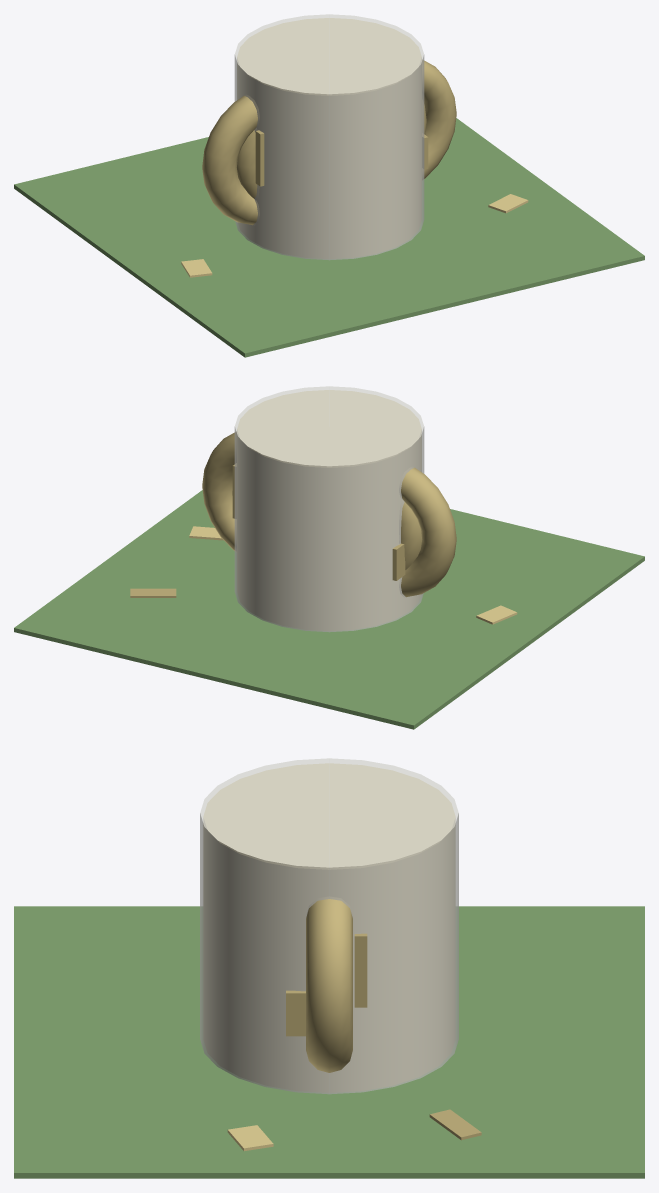
Rendered from hay_bale.glb.
3 views of the same model, one above another, from view 1: azimuth 30°, elevation 25°; view 2: azimuth 150°, elevation 25°; view 3: azimuth 270°, elevation 25° (orthographic). The views are drawn at different scales.
Parts seen in each view (by area): view 1: ground, net_wrap, bale_body, ring_1, ring_5, ring_2, end_l_strand_3; view 2: ground, net_wrap, bale_body, ring_1, ring_5, ring_2; view 3: ground, net_wrap, bale_body, ring_5, end_r_strand_3, end_r_strand_2, scatter_3, scatter_1.
Boxes of the visible parts, x1,y1,x2,y2 form: ground: (14,118,644,357); net_wrap: (234,14,424,260); bale_body: (237,18,421,258); ring_1: (202,95,259,225); ring_5: (422,60,456,179); ring_2: (237,128,259,199); end_l_strand_3: (255,130,264,186); ground: (14,490,644,729); net_wrap: (234,386,424,632); bale_body: (237,390,421,630); ring_1: (399,467,456,597); ring_5: (202,432,236,551); ring_2: (399,500,421,569); ground: (14,906,644,1178); net_wrap: (200,758,458,1094); bale_body: (203,763,455,1092); ring_5: (306,897,352,1072); end_r_strand_3: (354,933,367,1007); end_r_strand_2: (286,990,305,1036); scatter_3: (429,1109,481,1140); scatter_1: (227,1125,273,1151).
Bounding box in the file's own units: 4 × 1.65 × 4.
